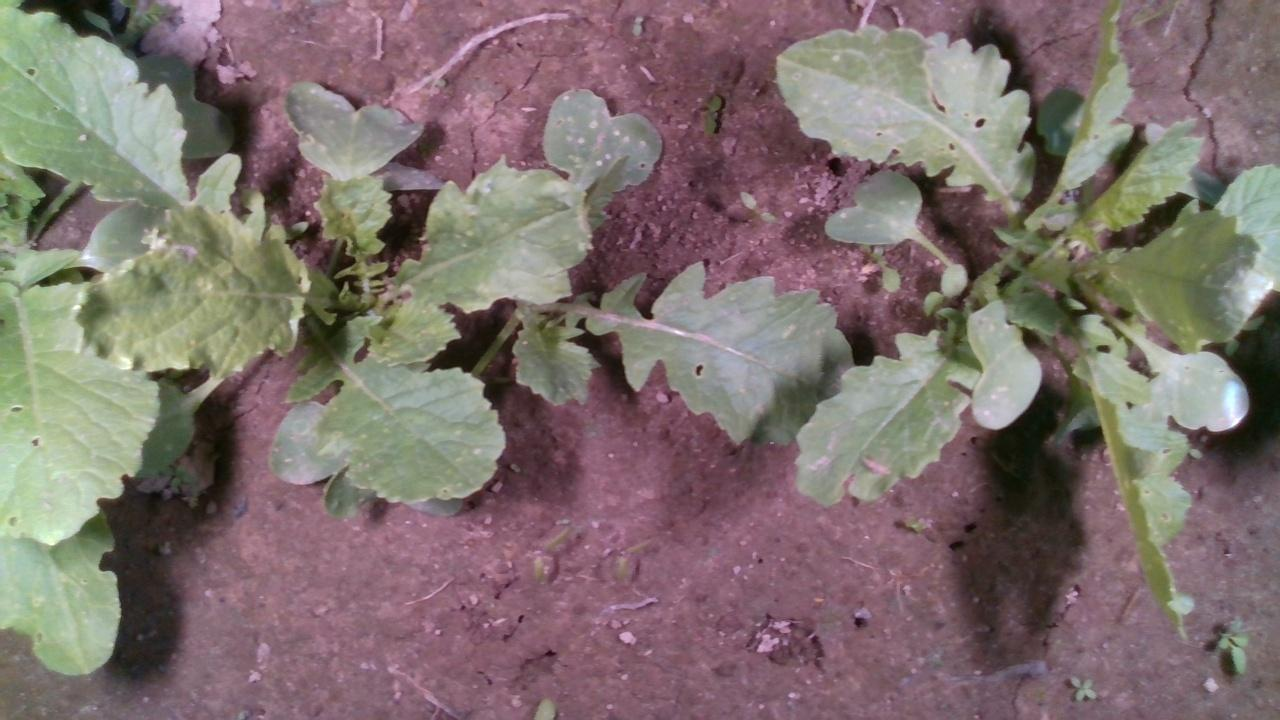weed: (530, 525, 570, 591), (615, 535, 655, 589), (702, 89, 724, 136), (1067, 674, 1097, 702), (627, 12, 644, 37)
